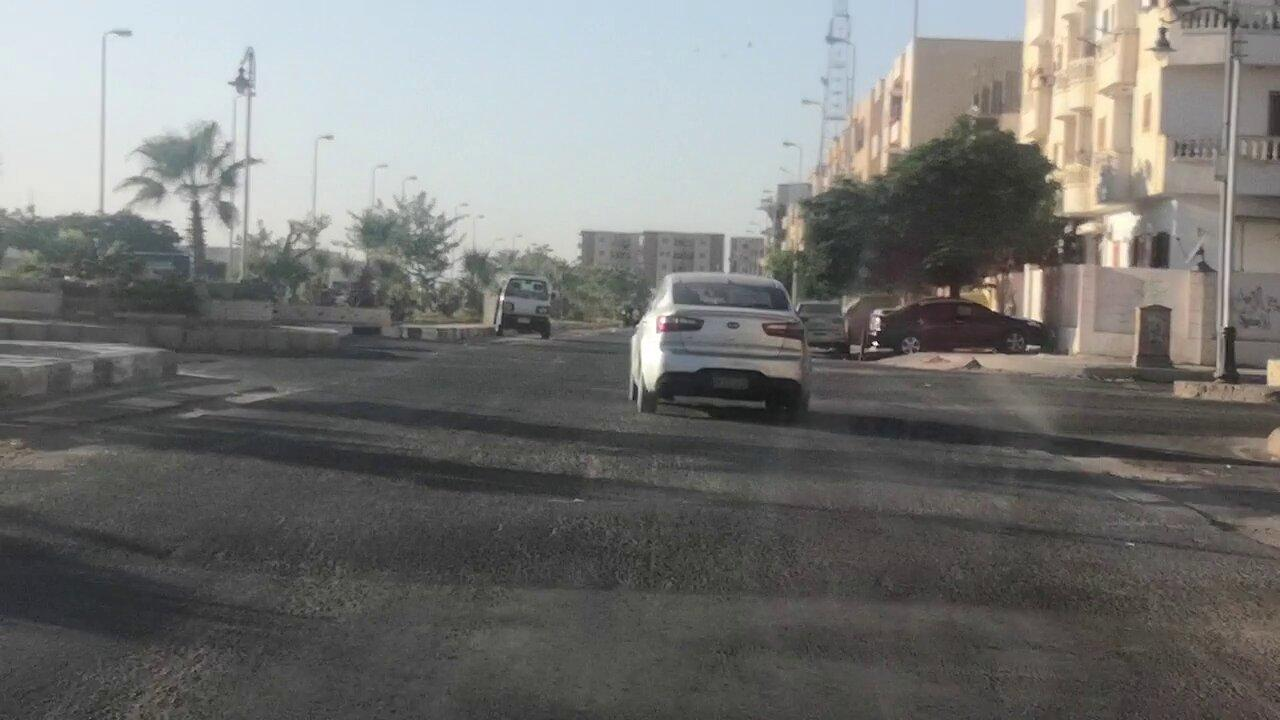Bump: (20, 443, 1250, 607)
